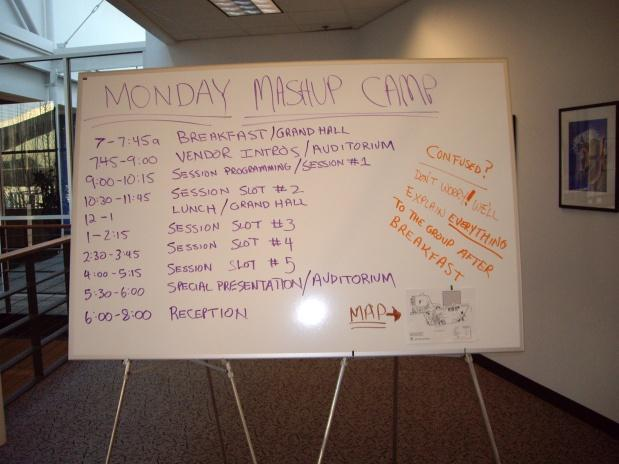Whiteboard: (63, 55, 525, 361)
